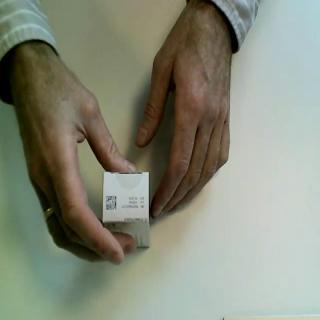apodonorm5mg: (101, 171, 153, 251)
